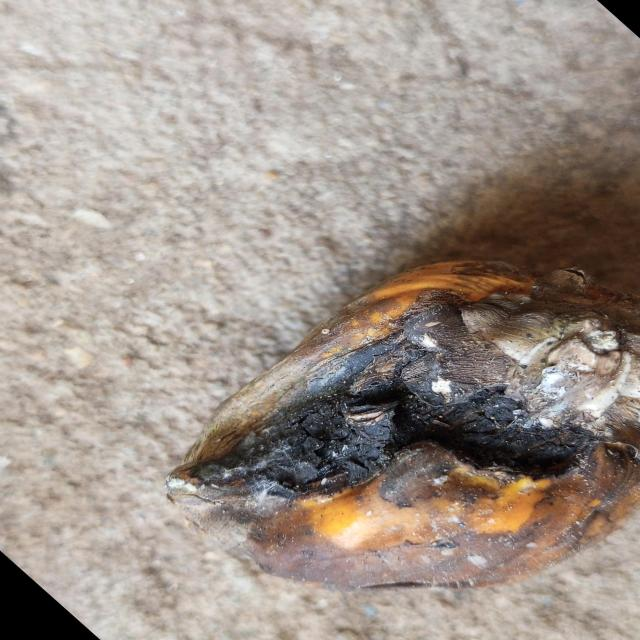damaged: (168, 264, 640, 597)
